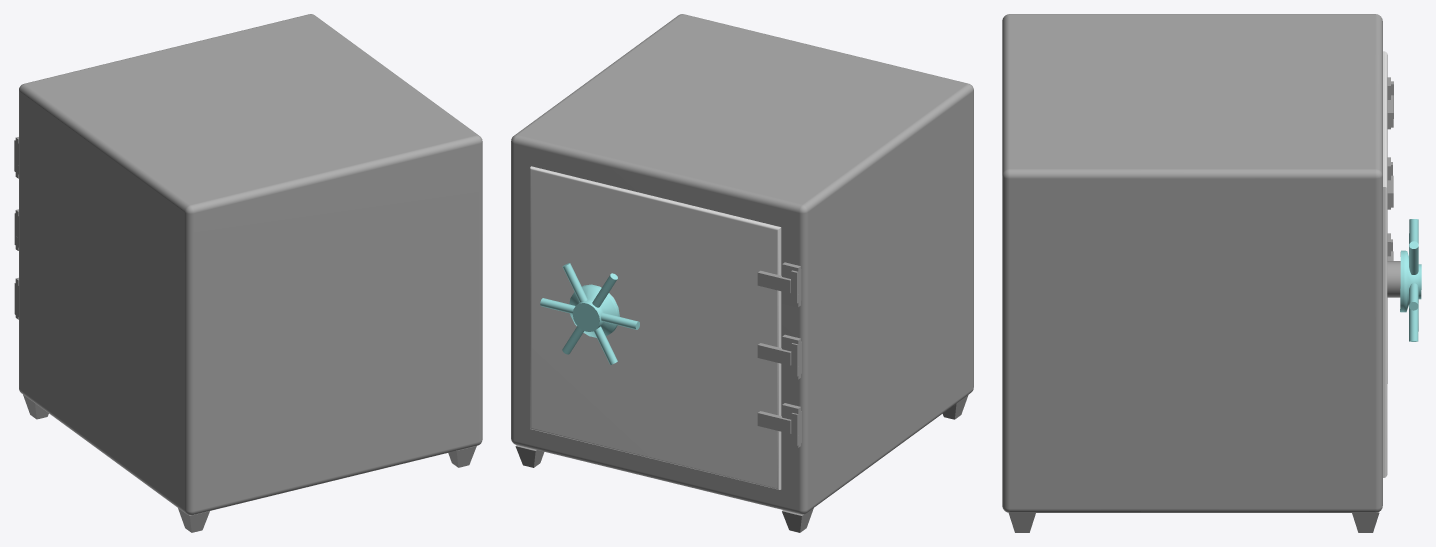
The model's file is vault.fbx.
3 renders of one model, left to right at view 1: azimuth 30°, elevation 25°; view 2: azimuth 150°, elevation 25°; view 3: azimuth 270°, elevation 25°, orthographic. The views are drawn at different scales.
Parts seen in each view (by area): view 1: polySurface2; view 2: polySurface2; view 3: polySurface2.
Boxes of the visible parts, x1,y1,x2,y2 form: polySurface2: (14, 14, 482, 532); polySurface2: (511, 14, 973, 532); polySurface2: (1002, 14, 1421, 532).
Bounding box in the file's own units: 50.57 × 53.8 × 55.84.
